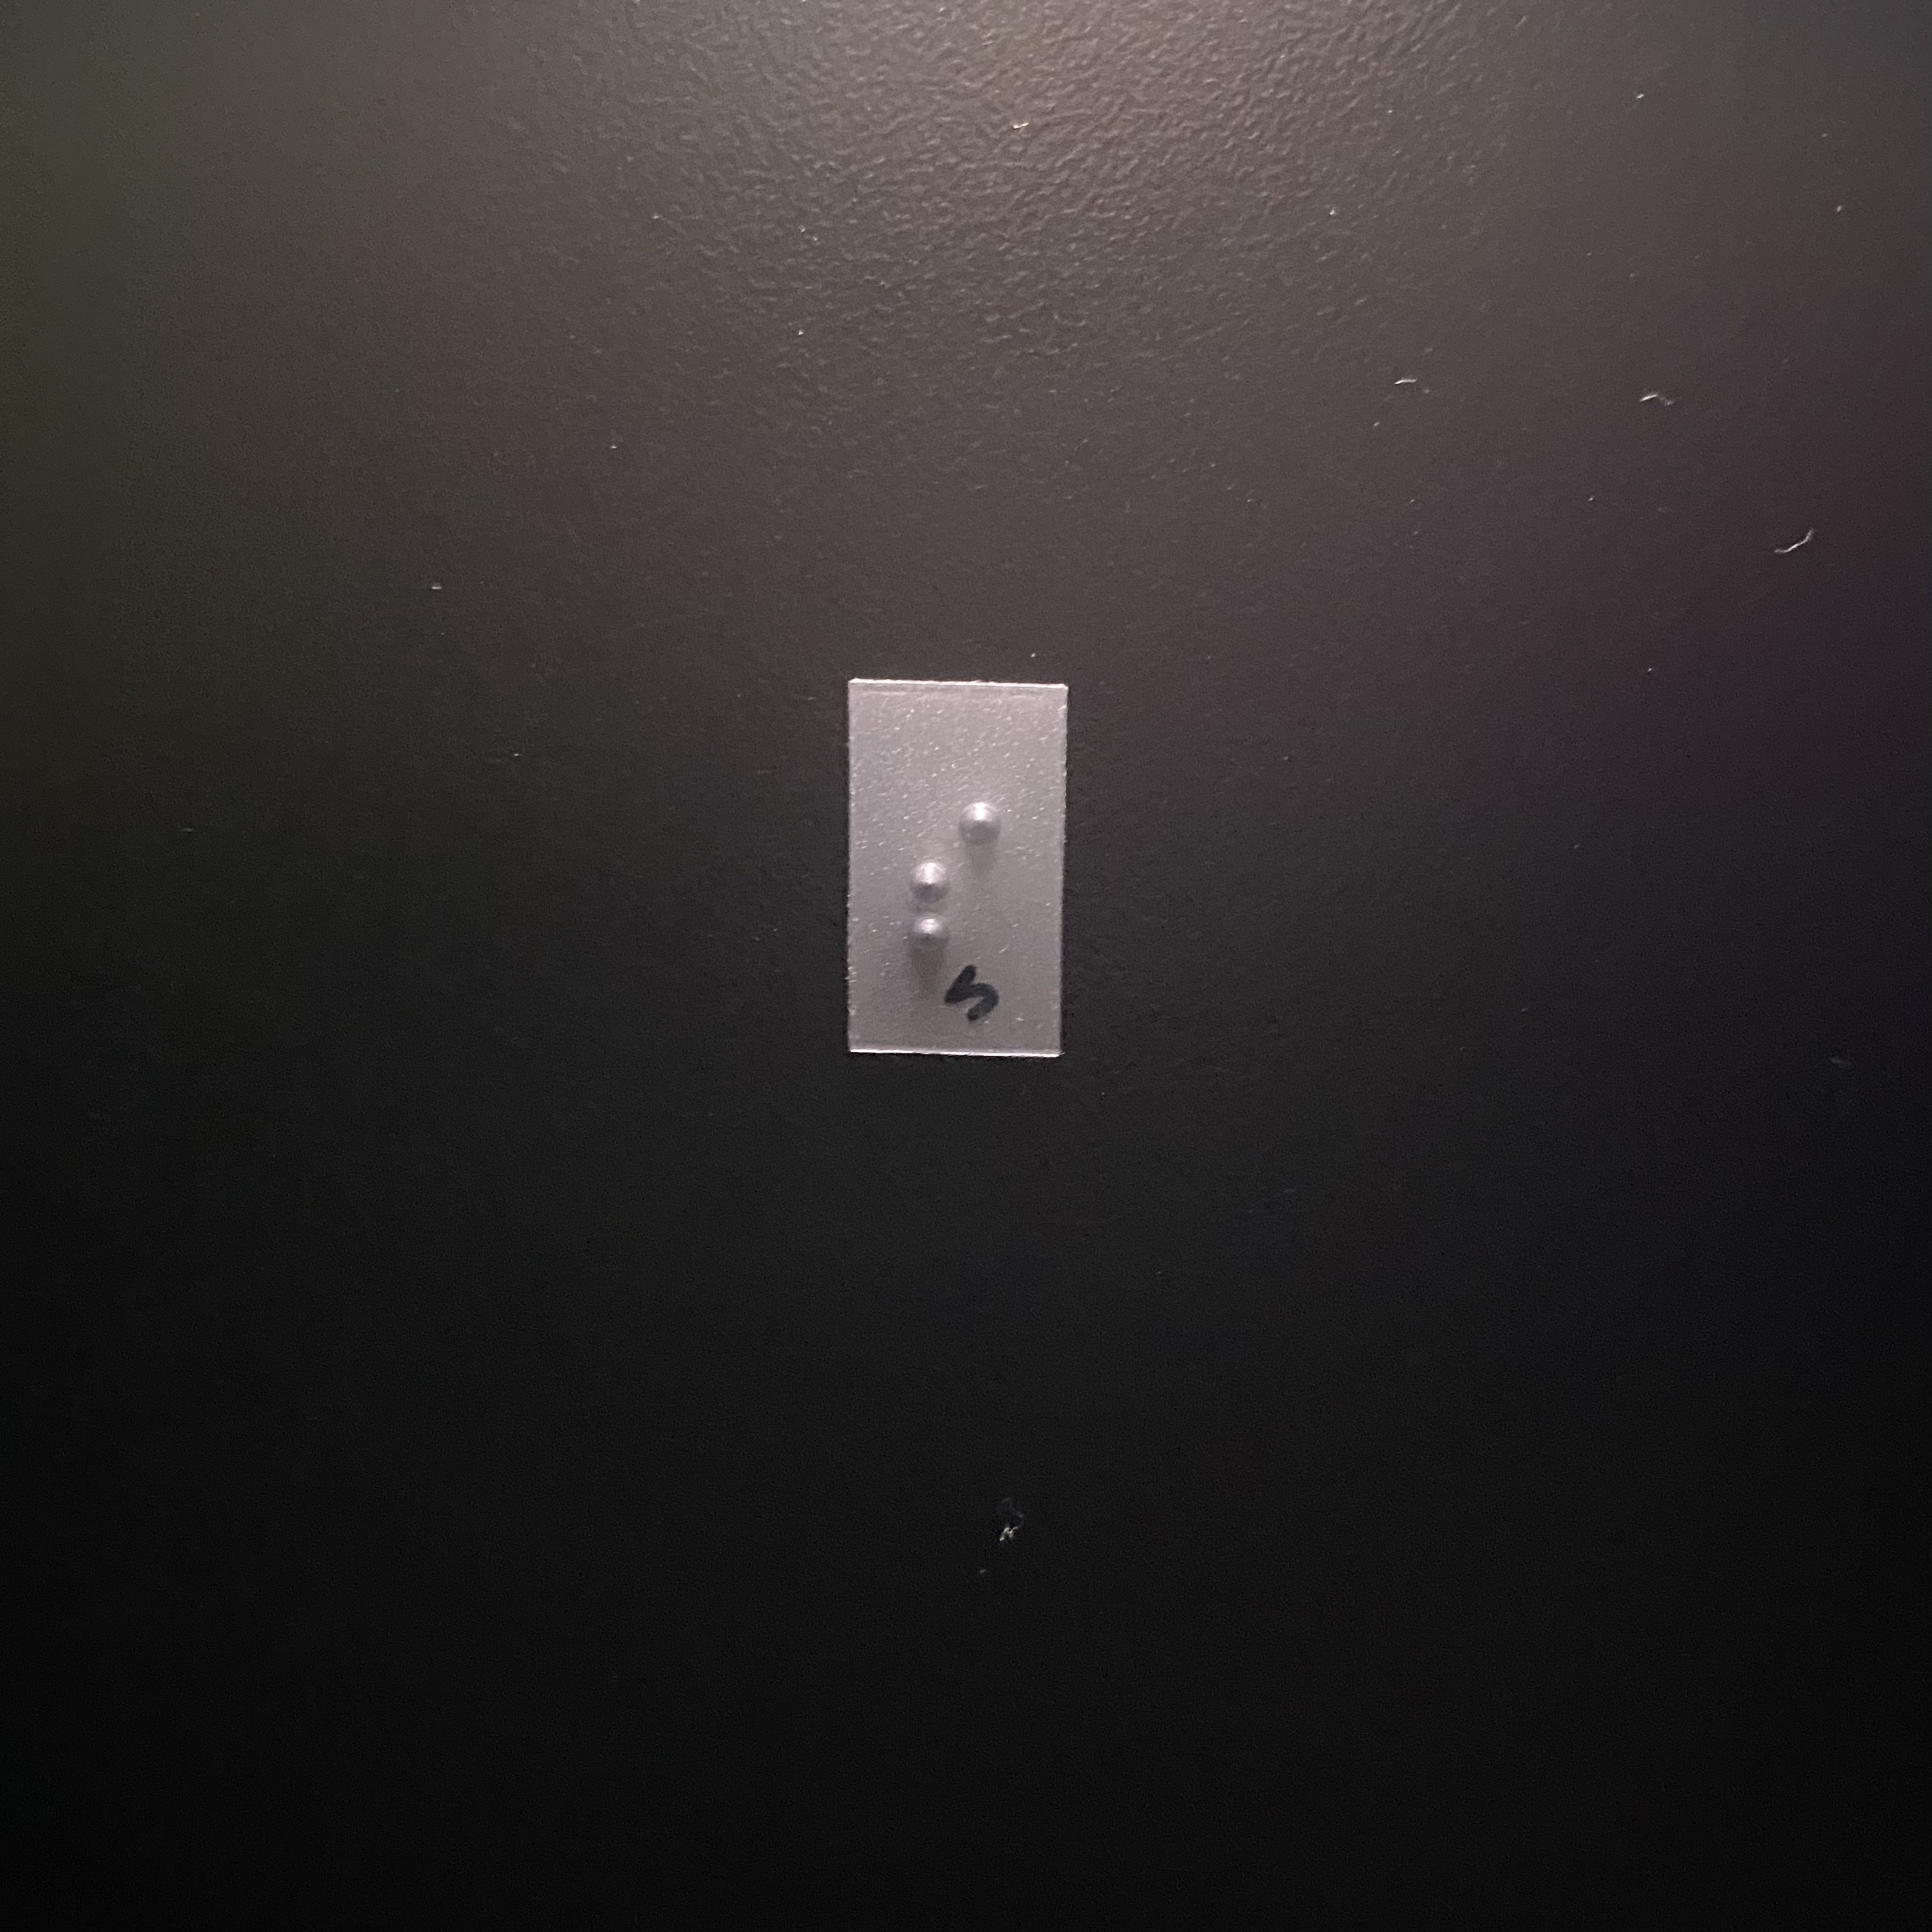s: (900, 792, 1032, 982)
